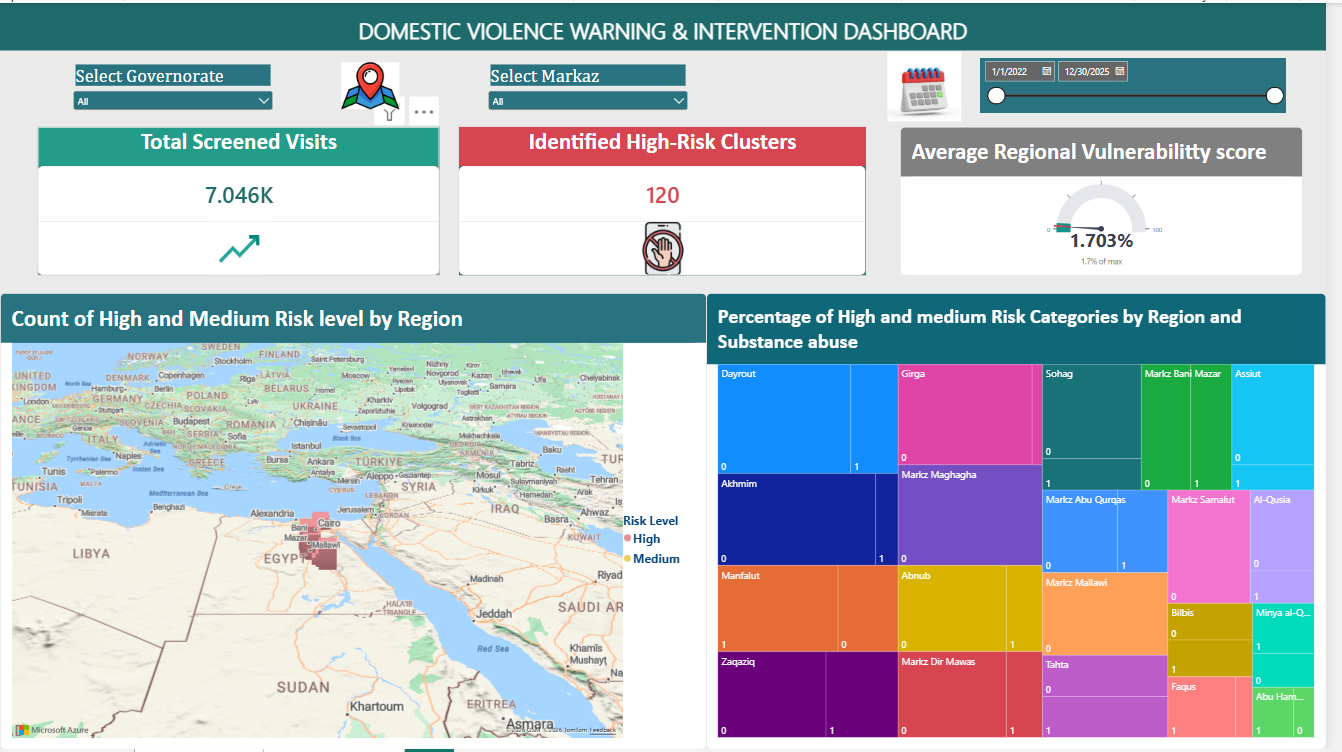

The page's visual inventory and layout, read from the dashboard file:
{"tool":"powerbi","page":{"name":"Location","canvas":[1920,1080],"ordinal":0},"visuals":[{"type":"textbox","box":[0,0,1920.1,68.8],"z":0},{"type":"cardVisual","title":"Total Screened Visits","fields":{"Data":["Count(hayah_karima_decision_support_data.visit_id)"]},"box":[53.5,179.1,582.7,215.3],"z":1000},{"type":"cardVisual","title":"Identified High-Risk Clusters","fields":{"Data":["hayah_karima_decision_support_data.highRisk"]},"box":[664.8,179.1,589.9,215.3],"z":2000},{"type":"briqlabGauge987E35659DC14F58A6C5699632F5E2E8","title":"Average Regional Vulnerabilitty score","fields":{"minValue":["hayah_karima_decision_support_data.minScore"],"maxValue":["hayah_karima_decision_support_data.maxScore"],"measure":["hayah_karima_decision_support_data.High Risk Ratio"],"target":["hayah_karima_decision_support_data.target"]},"box":[1302.9,179.1,583,215],"z":3000},{"type":"azureMap","title":"Count of High and Medium Risk level by Region","fields":{"Category":["coordinates (2).Location"],"Series":["hayah_karima_decision_support_data.final_severity_level"],"Size":["CountNonNull(hayah_karima_decision_support_data.visit_id)"],"X":["Avg(coordinates (2).Longitude)"],"Y":["Avg(coordinates (2).Latitude)"]},"box":[0,419.9,1023,660.7],"z":4000},{"type":"slicer","fields":{"Values":["hayah_karima_decision_support_data.governorate"]},"box":[100.9,88.5,298.5,70],"z":5000},{"type":"slicer","fields":{"Values":["hayah_karima_decision_support_data.markaz"]},"box":[701.9,88.5,298.5,70],"z":6000},{"type":"slicer","fields":{"Values":["hayah_karima_decision_support_data.visit_date"]},"box":[1418.2,80.3,442.5,78.2],"z":7000},{"type":"image","box":[494,78.2,84.4,84.4],"z":8000},{"type":"image","box":[1255.6,70,164.7,100.9],"z":9000},{"type":"treemap","title":"Percentage of High and medium Risk Categories by Region and Substance abuse","fields":{"Details":["hayah_karima_decision_support_data.has_substance_use_flag"],"Group":["hayah_karima_decision_support_data.markaz"],"Values":["CountNonNull(hayah_karima_decision_support_data.final_severity_level)"]},"box":[1023,419.9,897.4,660.7],"z":10000}]}

Visuals, with their boxes in screenshot pixels (x1, y1, x2, y2), scaled from the page's 1920x1080 canvas onto the 1342x752 screenshot:
textbox: 0/0/1341/48
"Total Screened Visits" cardVisual: 37/125/445/275
"Identified High-Risk Clusters" cardVisual: 465/125/877/275
"Average Regional Vulnerabilitty score" briqlabGauge987E35659DC14F58A6C5699632F5E2E8: 911/125/1318/274
"Count of High and Medium Risk level by Region" azureMap: 0/292/715/751
slicer - hayah_karima_decision_support_data.governorate: 71/62/279/110
slicer - hayah_karima_decision_support_data.markaz: 491/62/699/110
slicer - hayah_karima_decision_support_data.visit_date: 991/56/1301/110
image: 345/54/404/113
image: 878/49/993/119
"Percentage of High and medium Risk Categories by Region and Substance abuse" treemap: 715/292/1341/751
